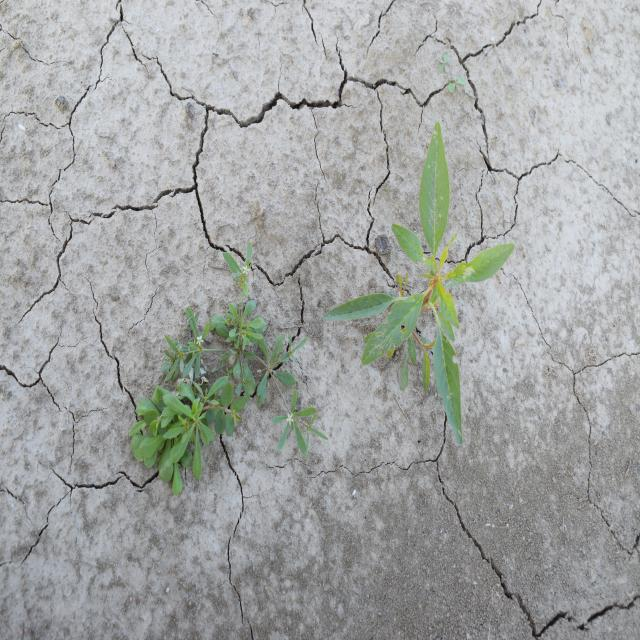Carpetweed: (126, 242, 330, 498)
Waterhemp: (322, 120, 517, 448)
